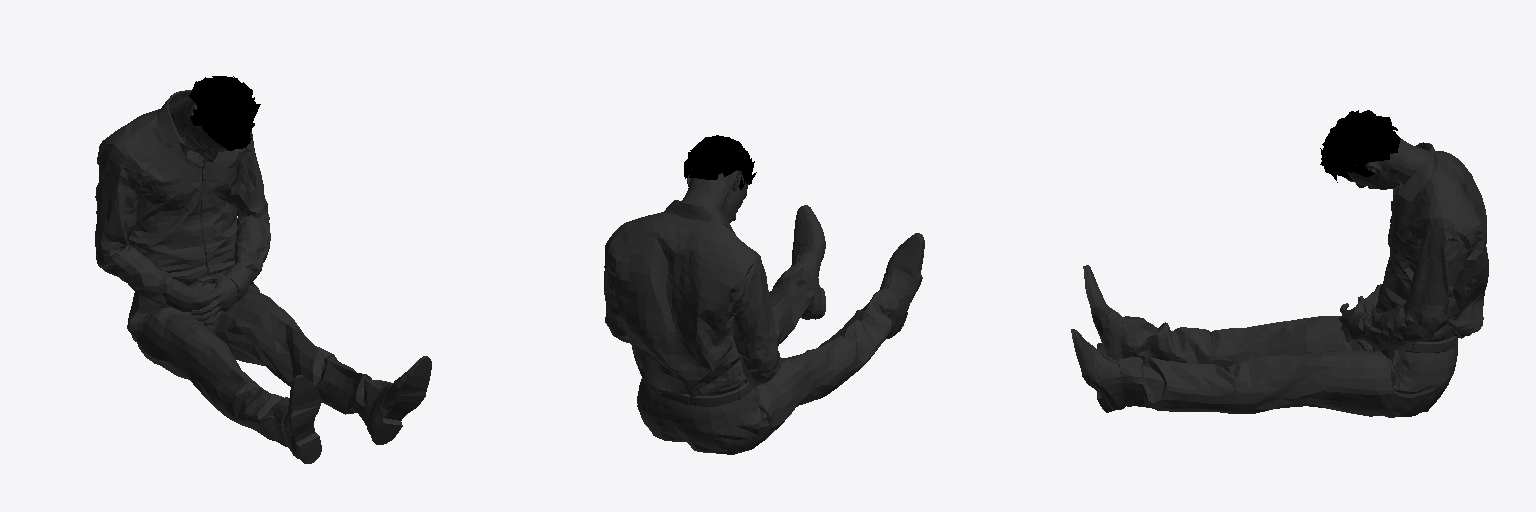
3 views of the same model, side by side, from view 1: azimuth 30°, elevation 25°; view 2: azimuth 150°, elevation 25°; view 3: azimuth 270°, elevation 25° (orthographic).
Visible parts, largest first — view 1: SM_Dead_Man_a_SM_Dead_Man_a; view 2: SM_Dead_Man_a_SM_Dead_Man_a; view 3: SM_Dead_Man_a_SM_Dead_Man_a.
Boxes of the visible parts, <box> form: SM_Dead_Man_a_SM_Dead_Man_a: <box>95,76,431,463</box>; SM_Dead_Man_a_SM_Dead_Man_a: <box>604,135,924,454</box>; SM_Dead_Man_a_SM_Dead_Man_a: <box>1071,110,1488,417</box>.
Bounding box in the file's own units: 50.03 × 83.09 × 108.